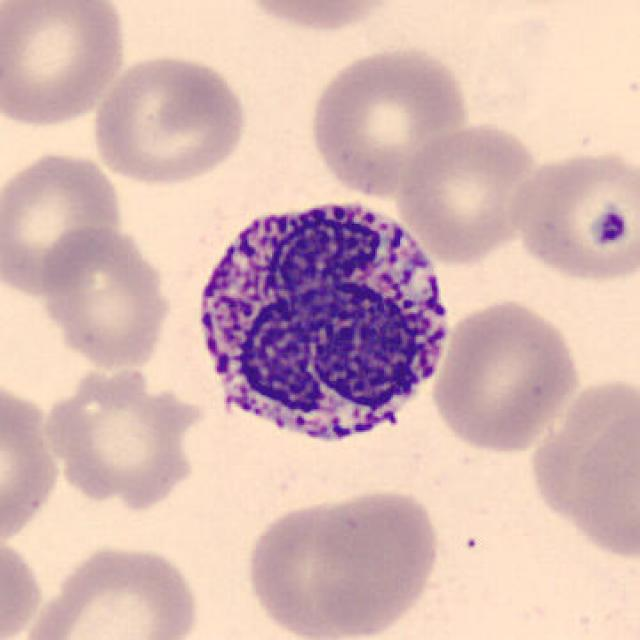Basophil: (183, 182, 464, 466)
RBC: (304, 42, 475, 201), (429, 294, 583, 456), (36, 361, 204, 508), (522, 368, 640, 564), (89, 49, 251, 189), (240, 492, 393, 640), (298, 485, 444, 640), (393, 120, 542, 266), (38, 222, 174, 372), (0, 148, 128, 300), (14, 539, 204, 640), (505, 144, 638, 288), (0, 0, 132, 132), (0, 375, 64, 552), (231, 0, 405, 35), (0, 534, 46, 638)
